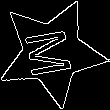M_E: (22, 25, 81, 80)
